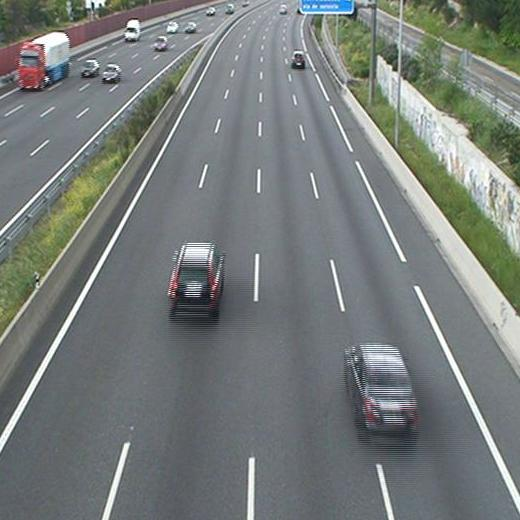car: (342, 344, 419, 443), (168, 240, 225, 324), (291, 51, 306, 68)
